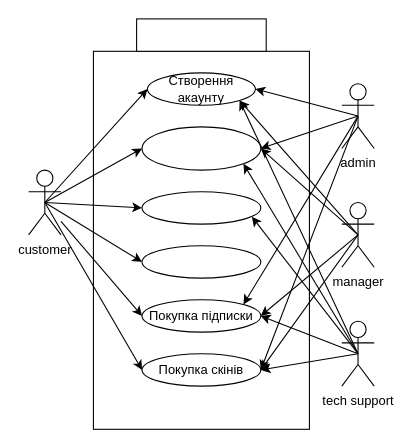
This 413x448 diagram has some shape labels left out. Each missing label, with the box of its shape:
Запуск матчу: (141, 191, 261, 224)
Кіберспортивна ліга: (136, 18, 266, 51)
Налаштування профілю: (141, 126, 261, 170)
Перегляд статистики: (141, 245, 261, 278)
